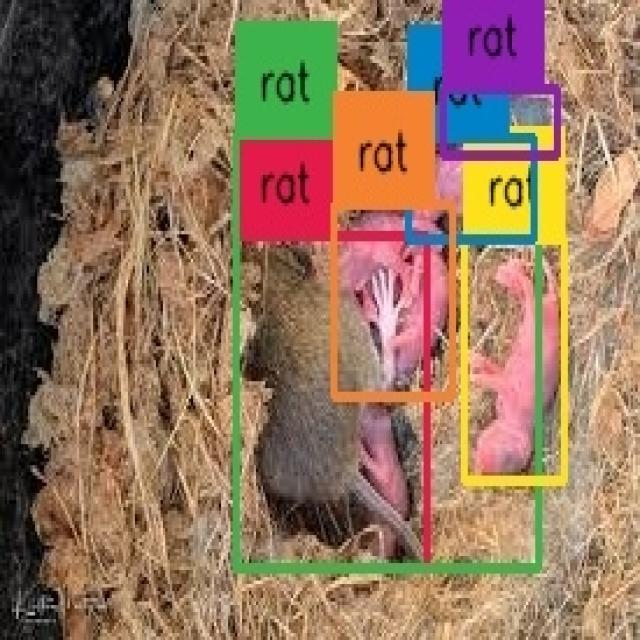rat: (235, 133, 538, 566), (235, 236, 426, 568), (464, 238, 564, 479), (333, 207, 454, 396), (408, 138, 536, 240), (443, 89, 558, 156)
